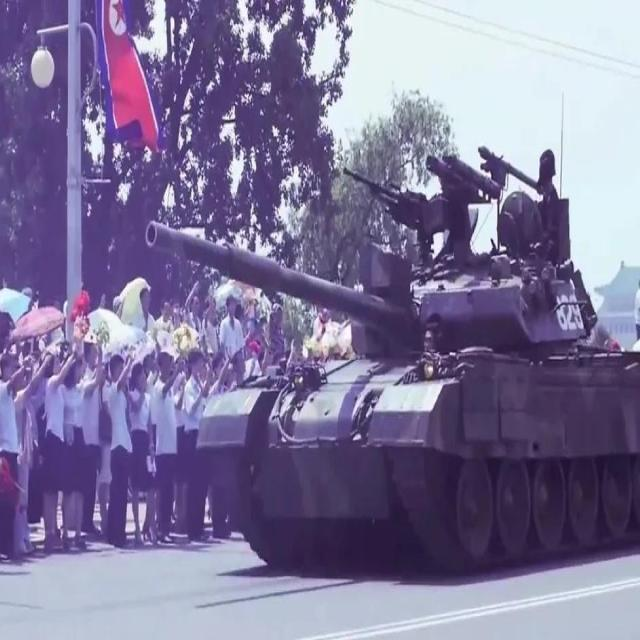north tank: (127, 149, 640, 597)
